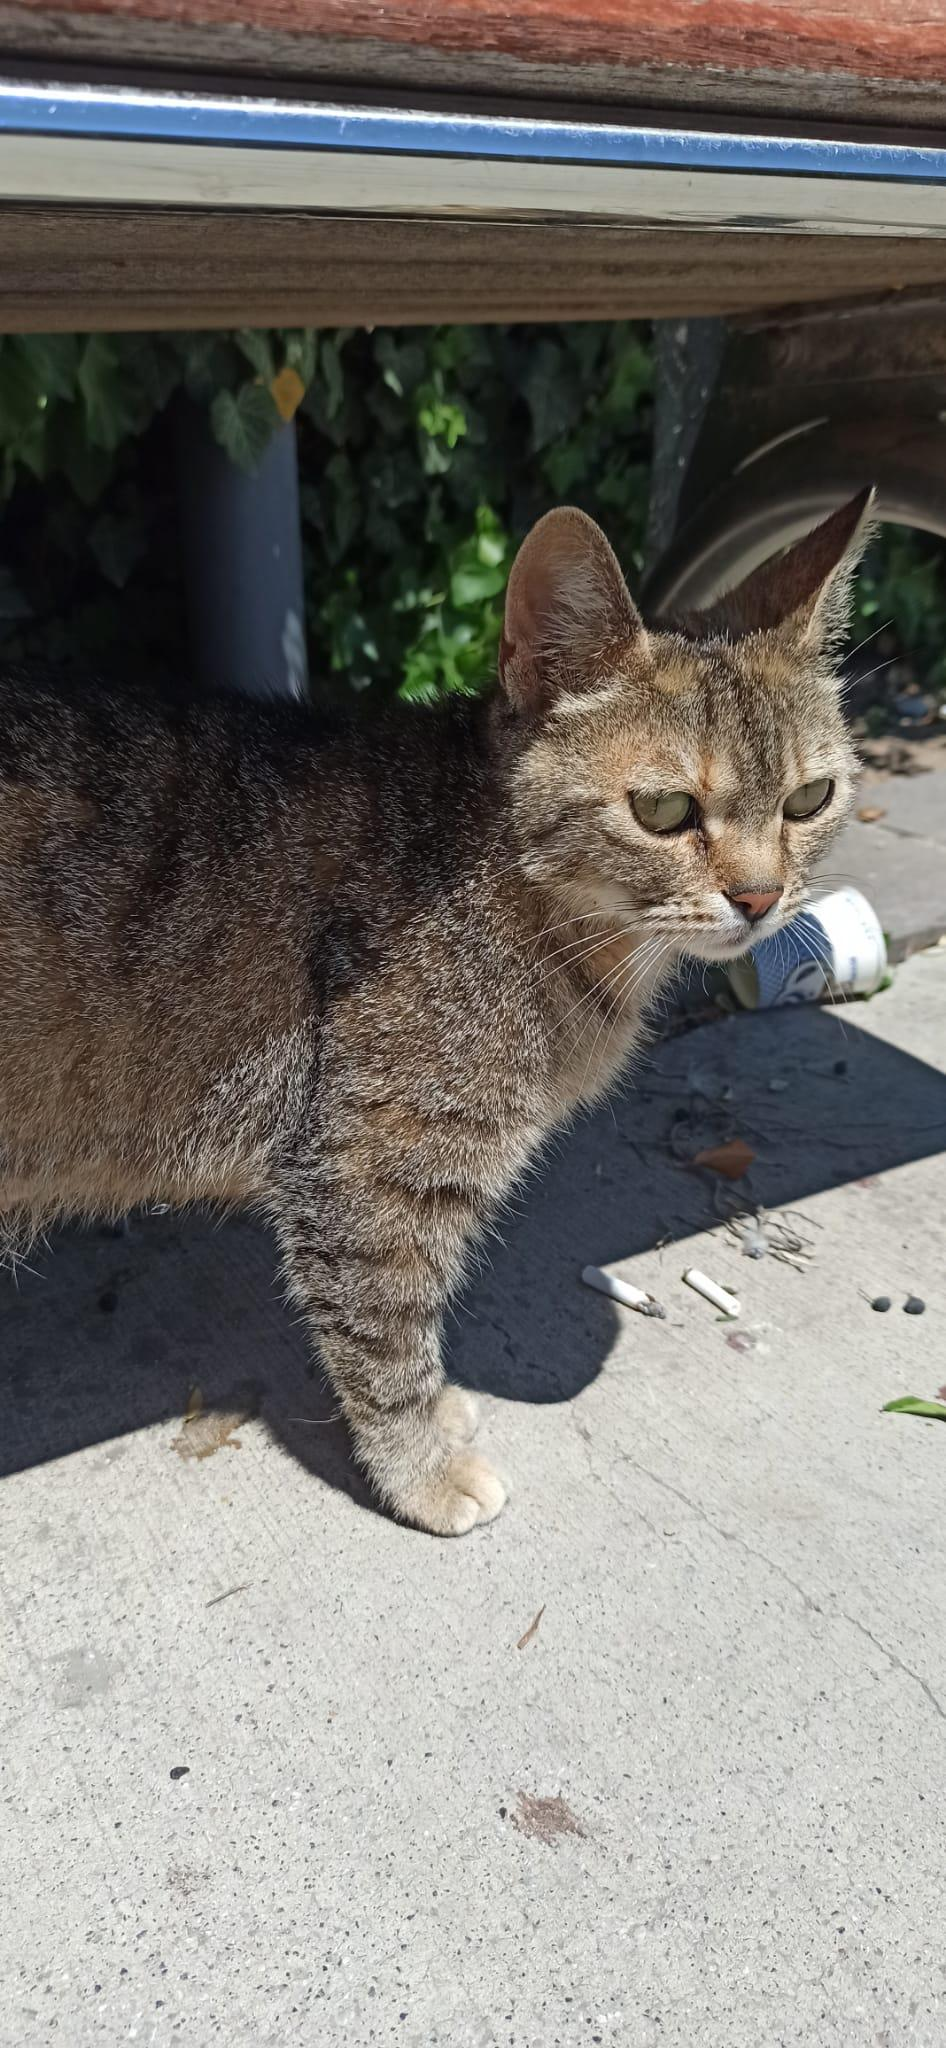kedo: (13, 500, 862, 1531)
